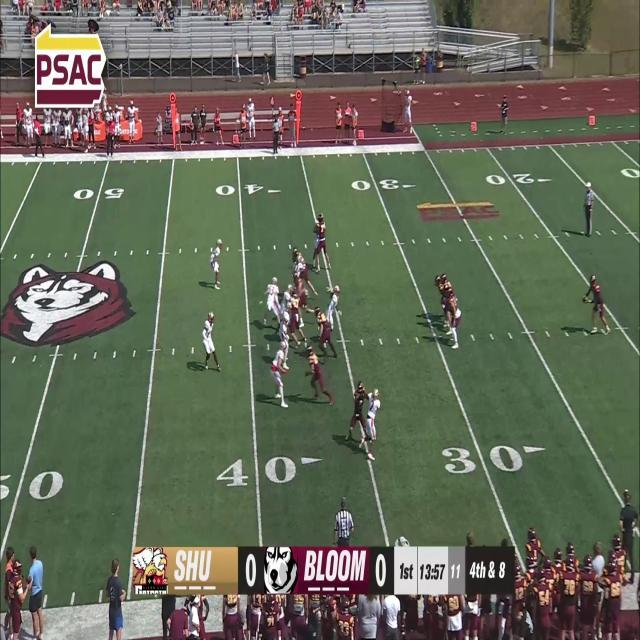football: (581, 294, 588, 304)
